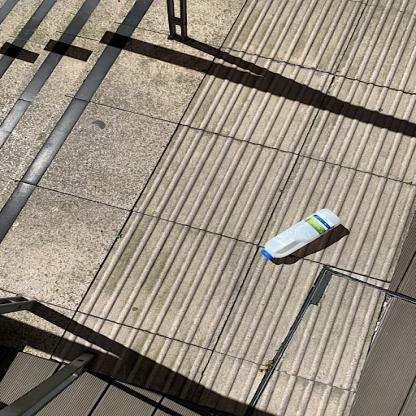trash: (254, 207, 350, 260)
